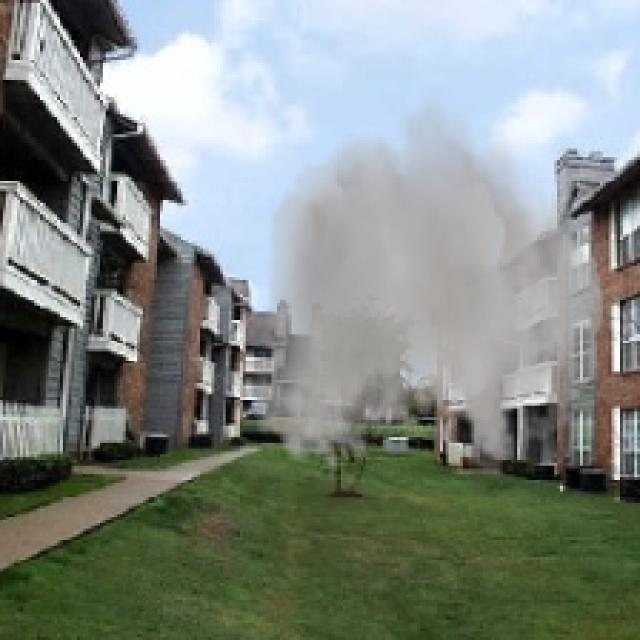Smoke: (251, 82, 603, 474)
